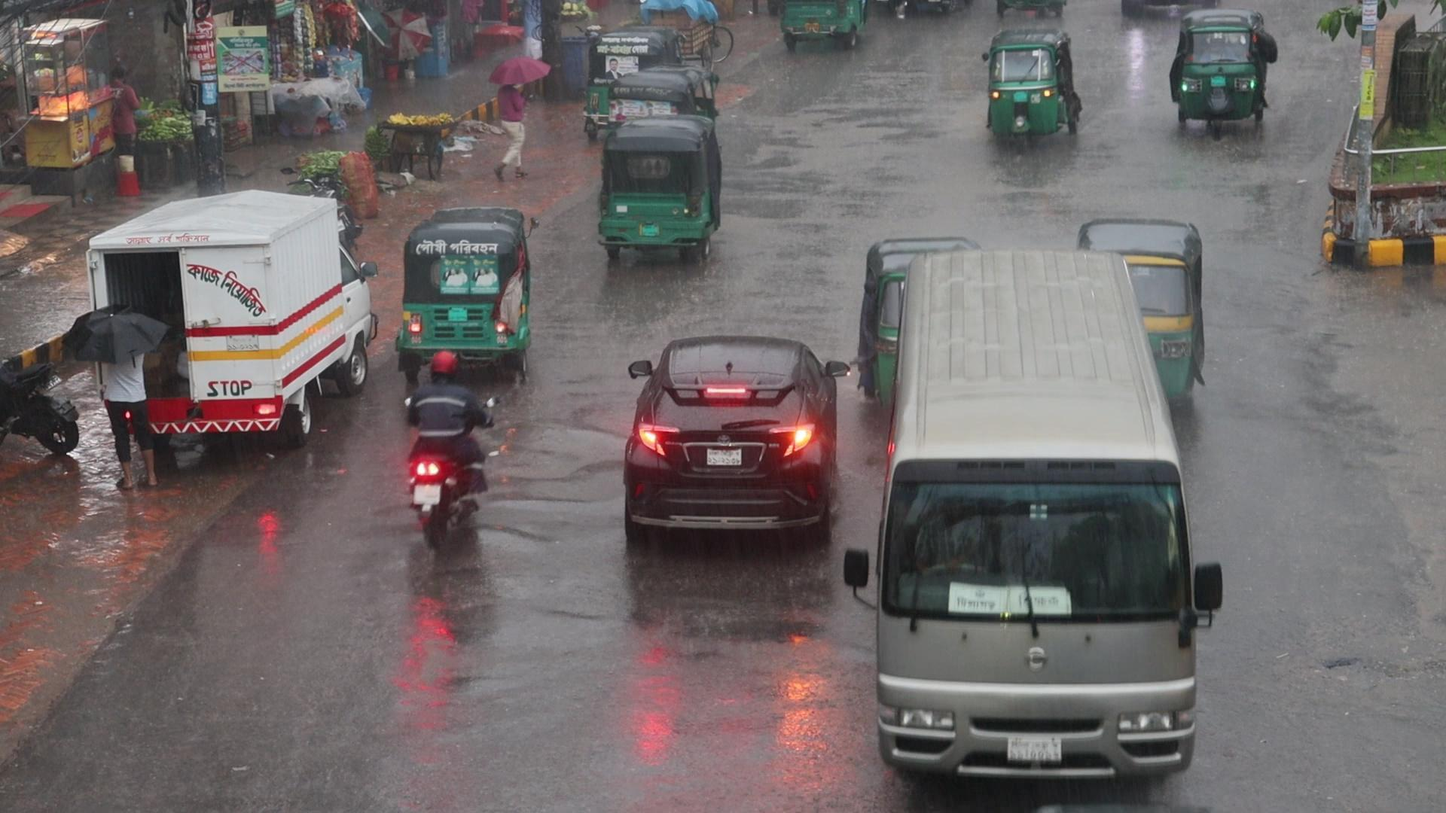Bike: (392, 347, 501, 571)
Car: (870, 247, 1205, 813), (619, 324, 848, 576)
